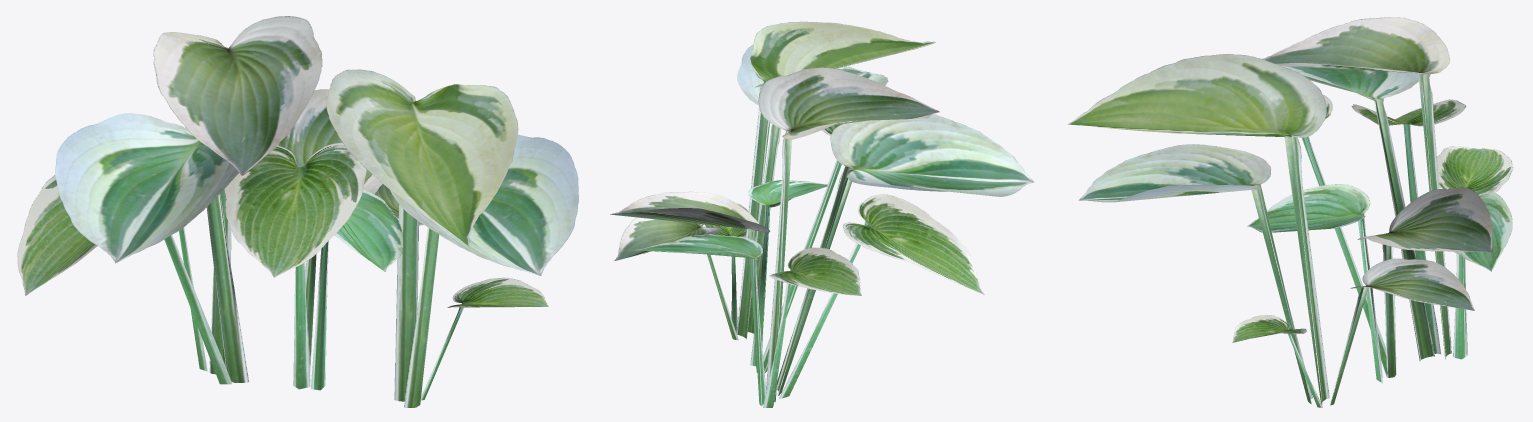
Rendered from plant_small_wg_00_i-corner06.fbx.
3 renders of one model, left to right at view 1: azimuth 30°, elevation 25°; view 2: azimuth 150°, elevation 25°; view 3: azimuth 270°, elevation 25°, orthographic. The views are drawn at different scales.
Visible parts, largest first — view 1: plant_small_wg_00_i-corner06; view 2: plant_small_wg_00_i-corner06; view 3: plant_small_wg_00_i-corner06.
Part boxes in pixels (x1,y1,x2,y2): plant_small_wg_00_i-corner06: (17,16,578,407); plant_small_wg_00_i-corner06: (610,21,1033,407); plant_small_wg_00_i-corner06: (1068,17,1513,407).
Bounding box in the file's own units: 49.74 × 40.5 × 53.82.
Materials: 1 (1 with a texture image).
